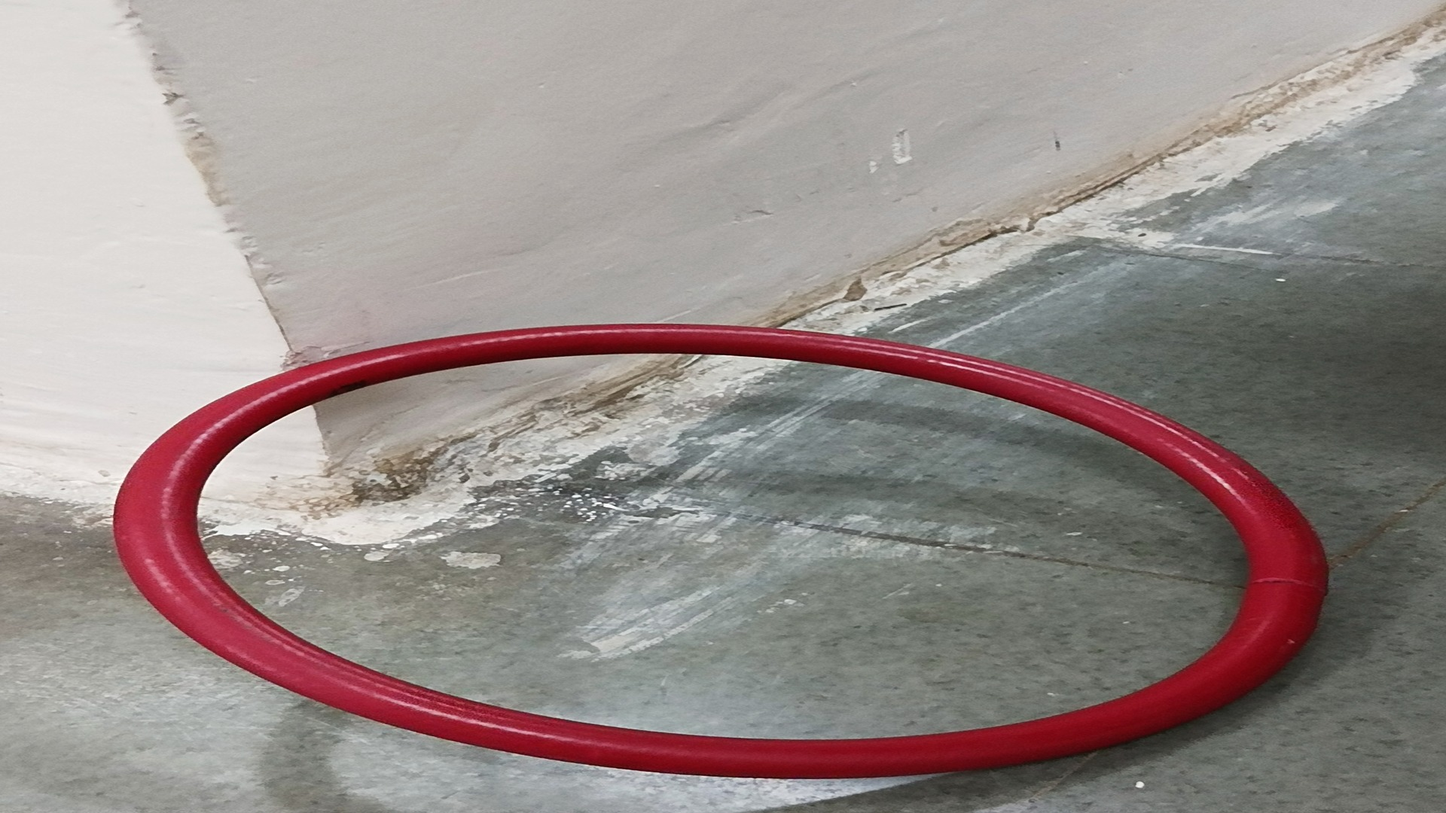Red ring: (114, 321, 1332, 778)
